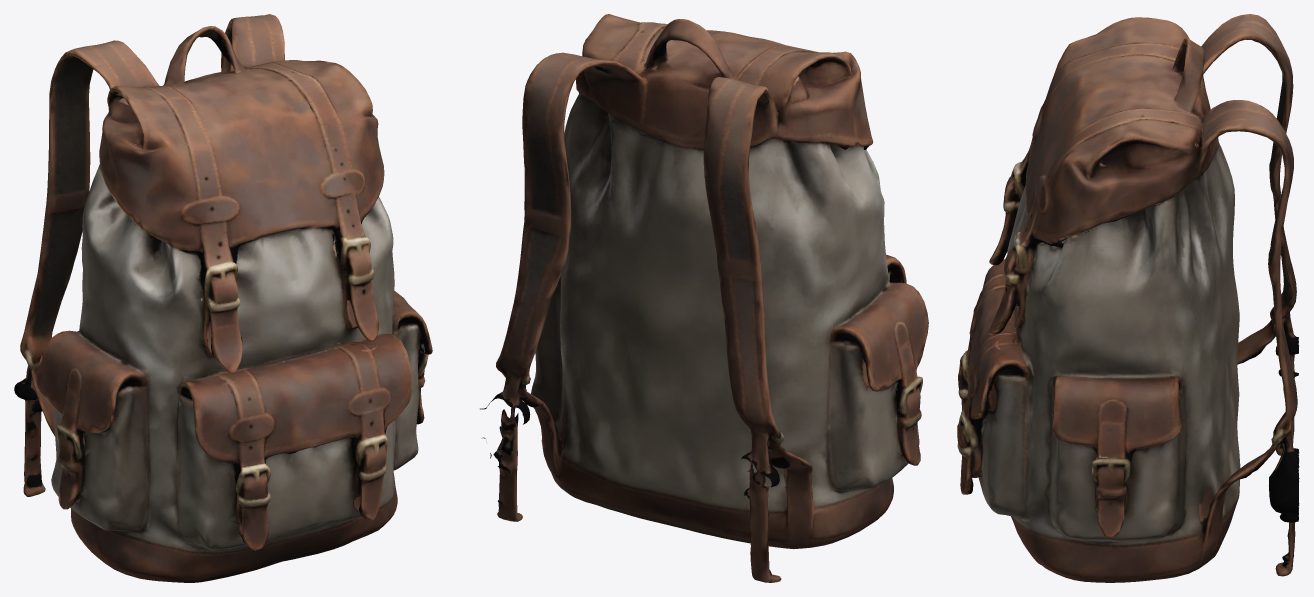
3 renders of one model, left to right at view 1: azimuth 30°, elevation 25°; view 2: azimuth 150°, elevation 25°; view 3: azimuth 270°, elevation 25°, orthographic. The views are drawn at different scales.
Visible parts, largest first — view 1: Mesh_0; view 2: Mesh_0; view 3: Mesh_0.
Boxes of the visible parts, bbox=[...] form: Mesh_0: bbox=[14, 14, 432, 582]; Mesh_0: bbox=[480, 14, 928, 582]; Mesh_0: bbox=[957, 14, 1299, 582].
Bounding box in the file's own units: 0.428 × 0.54 × 0.3507.
Materials: 1 (1 with a texture image).
